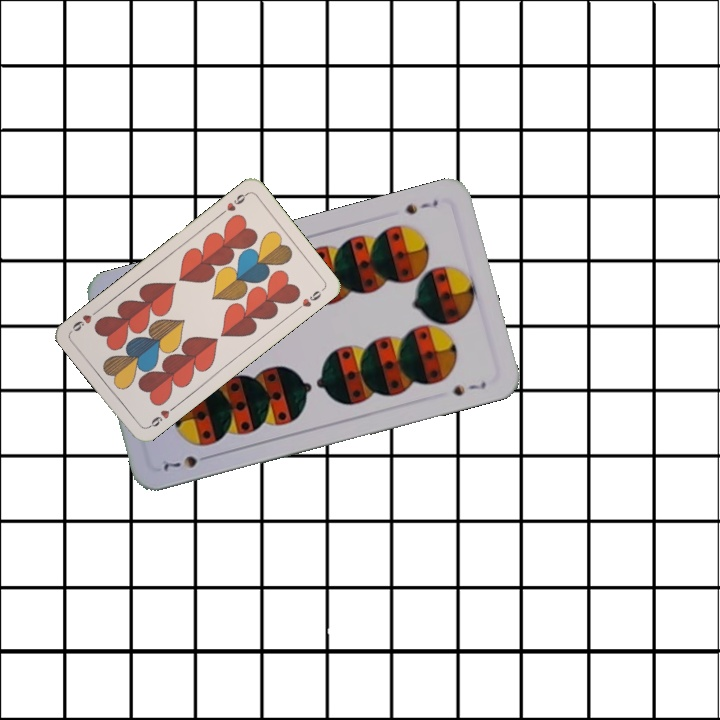H9: (216, 189, 251, 218), (143, 402, 178, 431)
S7: (159, 451, 215, 474), (401, 195, 441, 217)
